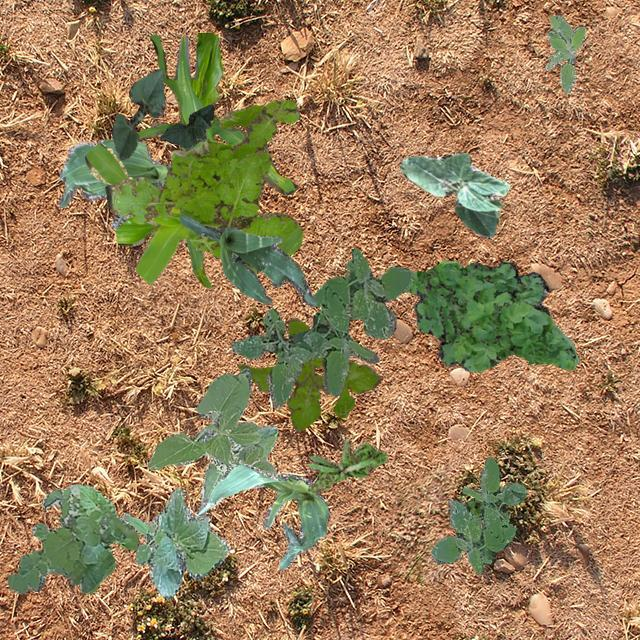crop: (115, 32, 296, 286), (146, 368, 276, 507), (84, 142, 188, 284), (195, 462, 328, 568), (178, 214, 316, 306), (122, 488, 228, 598), (58, 138, 170, 228), (398, 152, 508, 236), (110, 68, 164, 158), (160, 104, 212, 148)
weed: (105, 99, 302, 272), (230, 246, 412, 406), (403, 258, 578, 370), (238, 318, 380, 432), (7, 483, 138, 592), (430, 456, 526, 574), (306, 438, 386, 492), (544, 15, 584, 94), (462, 496, 482, 516)
